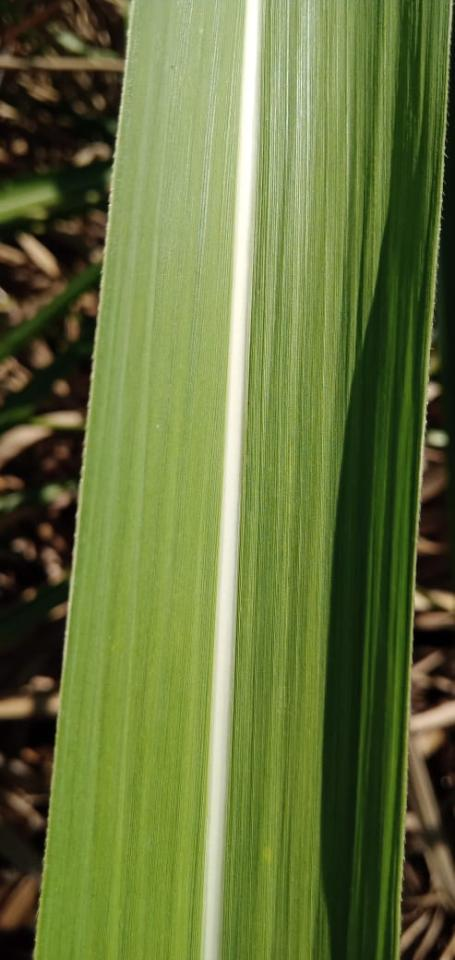Healthy: (35, 0, 450, 959)
